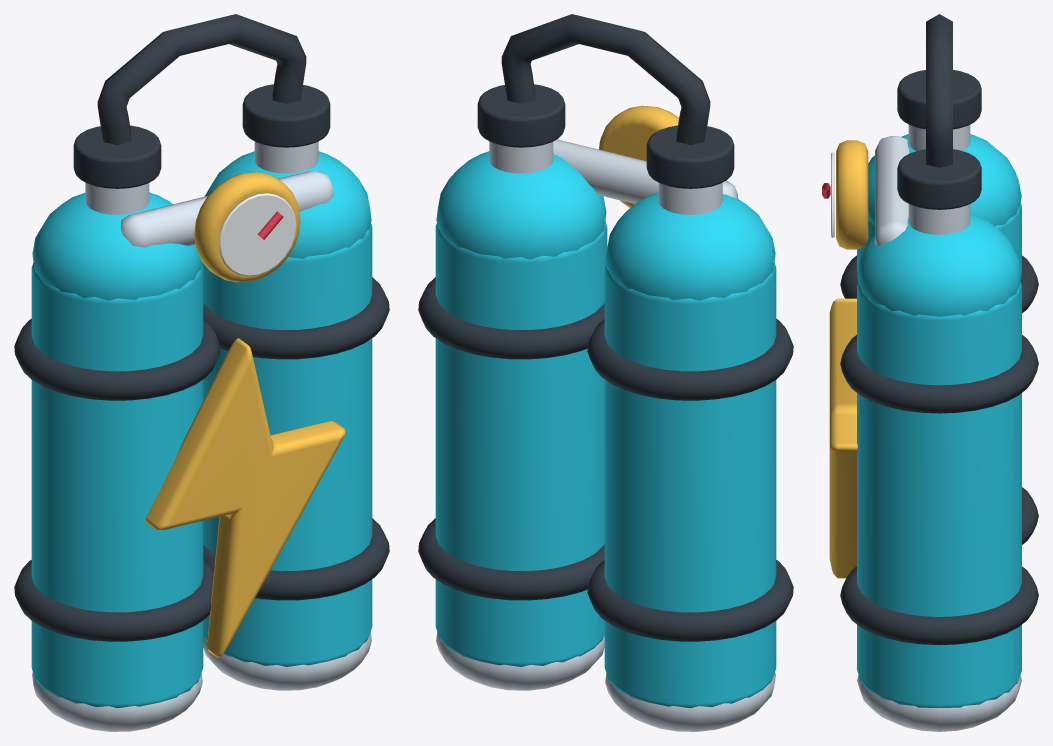
The model's file is boost.glb.
The picture shows the model from 3 angles, left to right: view 1: azimuth 30°, elevation 25°; view 2: azimuth 150°, elevation 25°; view 3: azimuth 270°, elevation 25°; orthographic projection. The views are drawn at different scales.
Visible parts, largest first — view 1: boost__body__Cyan, boost__body__Graphite, boost__body__Gold, boost__body__Chrome, boost__body__Pearl; view 2: boost__body__Cyan, boost__body__Graphite, boost__body__Chrome, boost__body__Gold; view 3: boost__body__Cyan, boost__body__Graphite, boost__body__Gold, boost__body__Chrome.
Boxes of the visible parts, x1,y1,x2,y2 form: boost__body__Cyan: (31,151,372,708); boost__body__Graphite: (14,14,389,641); boost__body__Gold: (145,172,345,658); boost__body__Chrome: (32,141,371,731); boost__body__Pearl: (218,193,296,276); boost__body__Cyan: (435,151,776,708); boost__body__Graphite: (418,14,793,641); boost__body__Chrome: (436,139,775,731); boost__body__Gold: (599,105,678,207); boost__body__Cyan: (857,134,1021,707); boost__body__Graphite: (840,14,1038,645); boost__body__Gold: (829,140,868,578); boost__body__Chrome: (857,125,1021,731).
Size of the model in its own units: 1.19 by 2.21 by 0.67.
